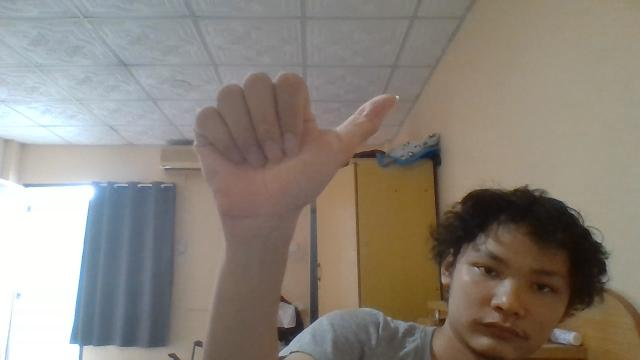left: (192, 70, 400, 222)
